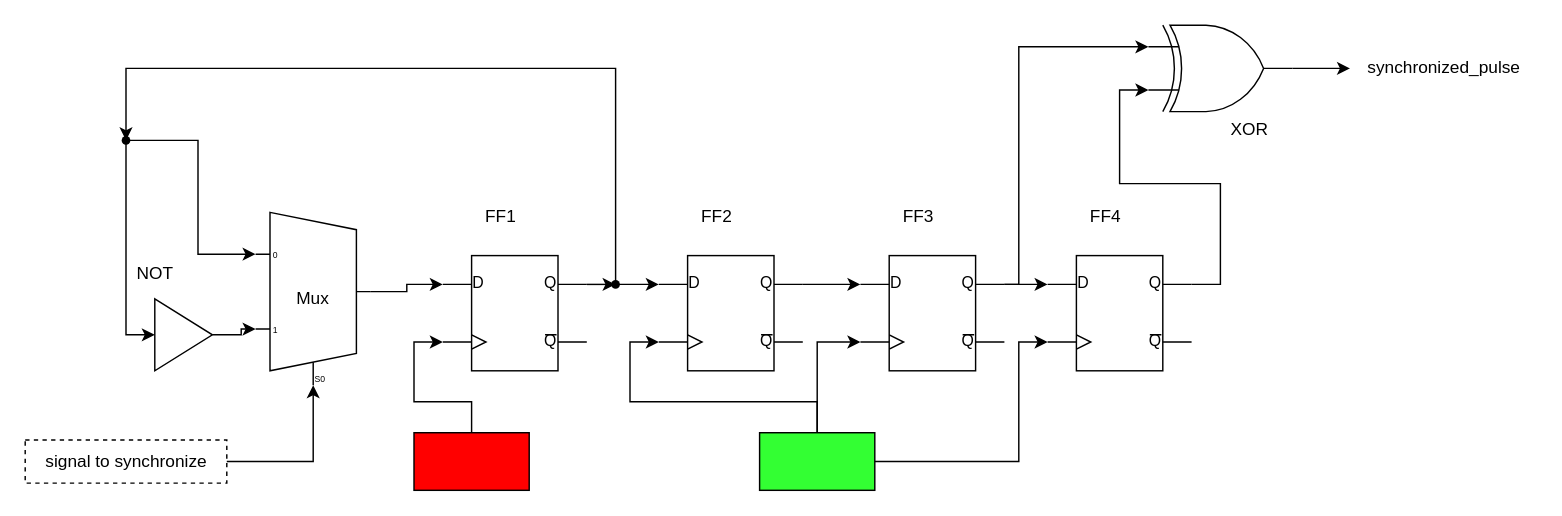
Image size: 1562x516. Some labels were removed from this diagram. The shapes that lost their labels are listed below. From the top down, each one's centre as x and y in pixels, then its label:
At point (471, 460): "Fast Clock 150Mhz".
At point (816, 460): "Slow Clock 100MHz".
